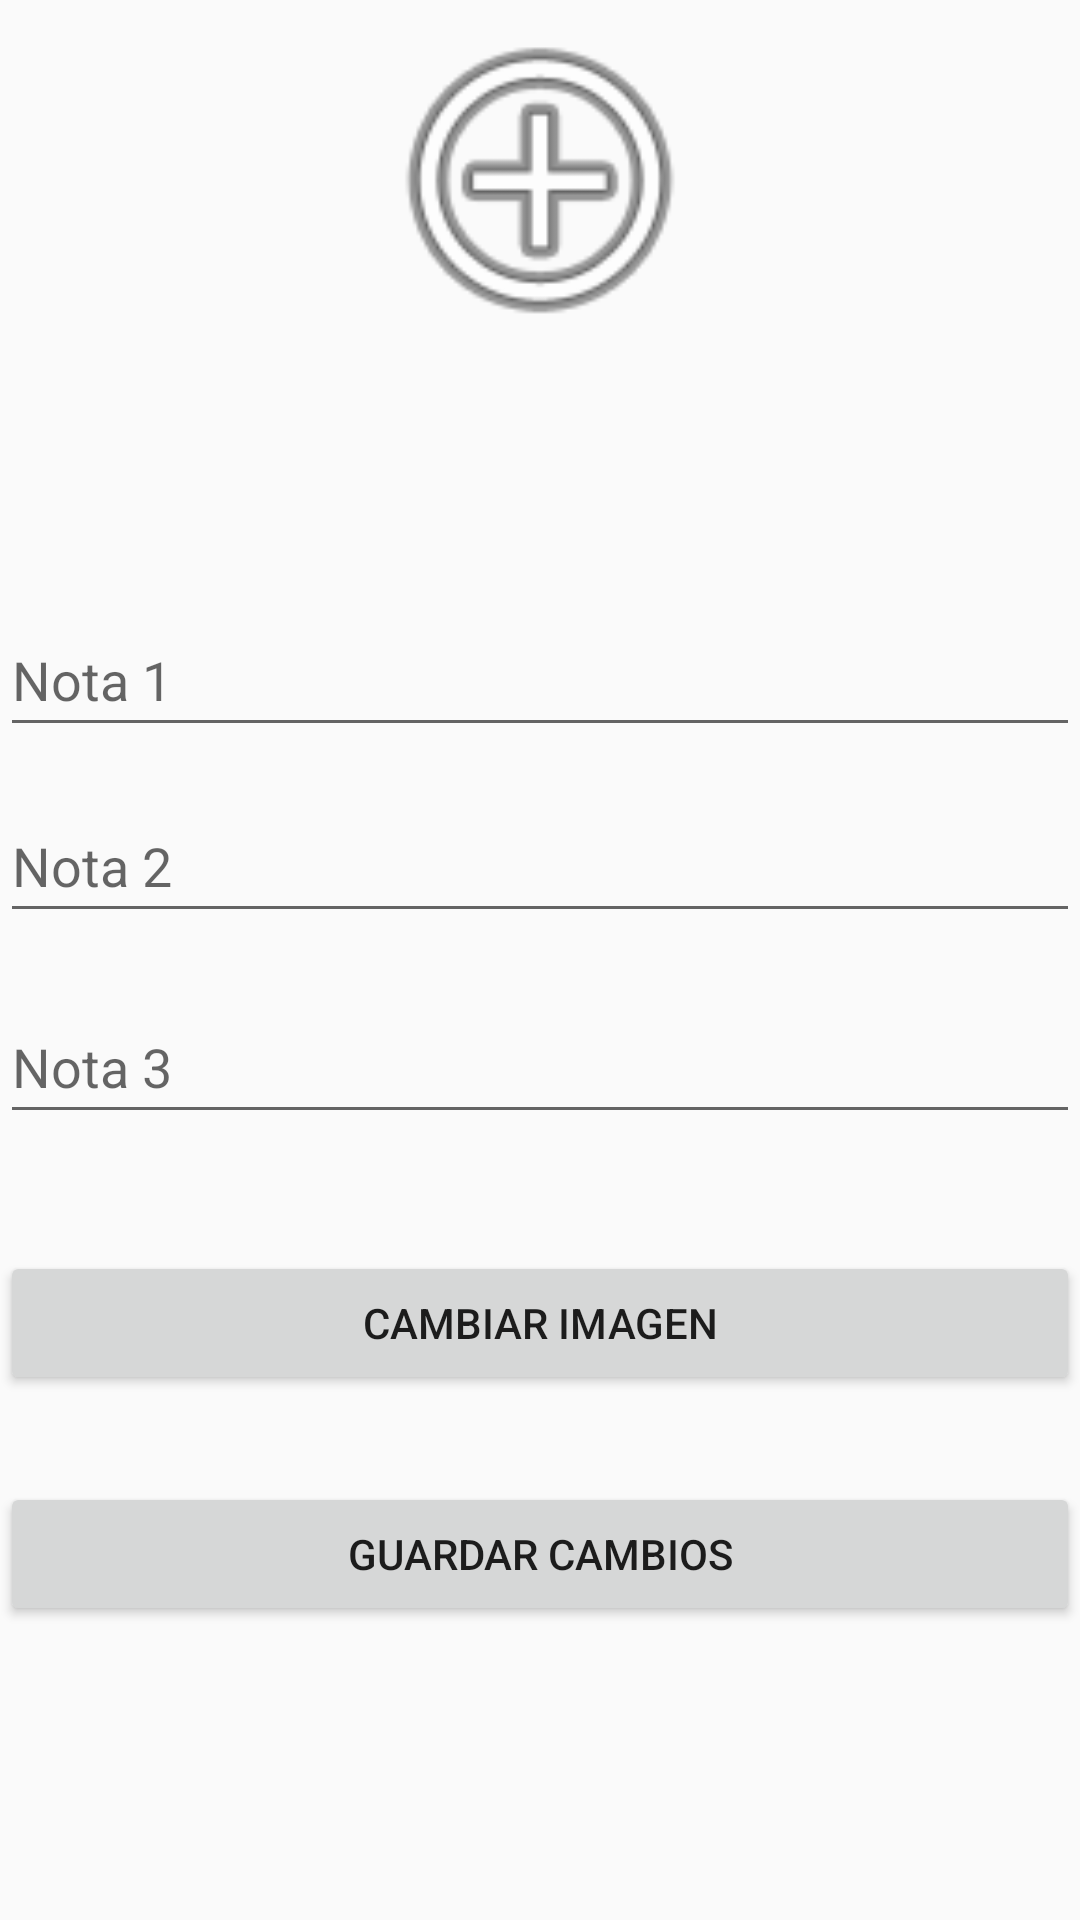

Icon click points for this 1080w x 1920h phone screenshot, format [x,y]:
add: [540,180]
